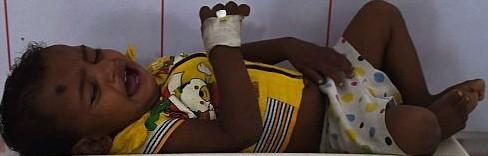Stunting: (2, 9, 155, 151)
